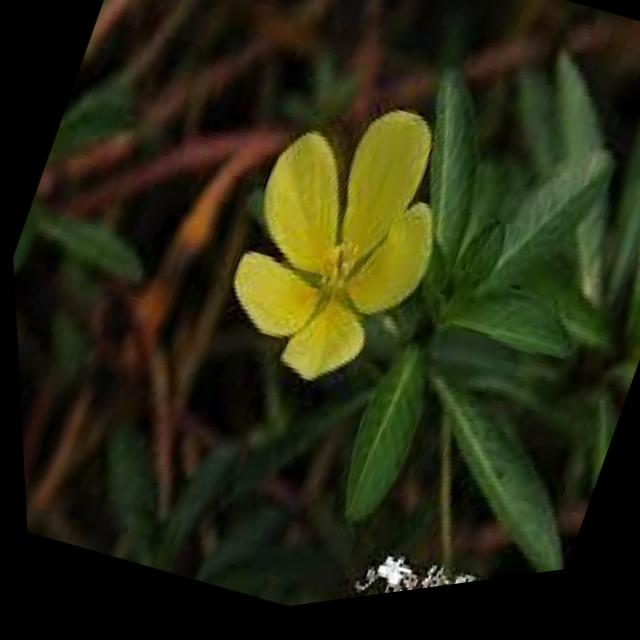Flower: (178, 62, 483, 441)
